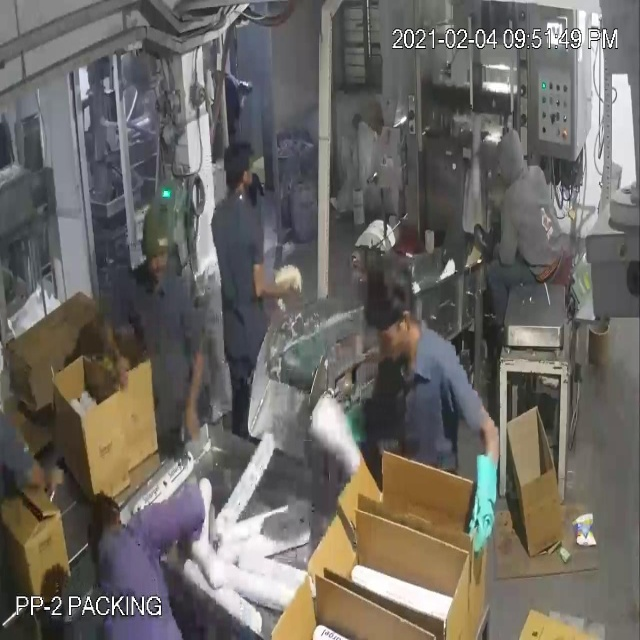Guantes: (462, 433, 505, 567)
Sin_guantes: (171, 324, 216, 458), (92, 298, 137, 412), (18, 429, 63, 531), (246, 257, 301, 314)
